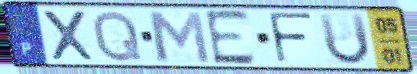E: (201, 9, 258, 67)
F: (266, 10, 316, 66)
M: (144, 10, 213, 65)
Q: (90, 9, 145, 64)
U: (316, 12, 373, 68)
X: (39, 8, 99, 63)
